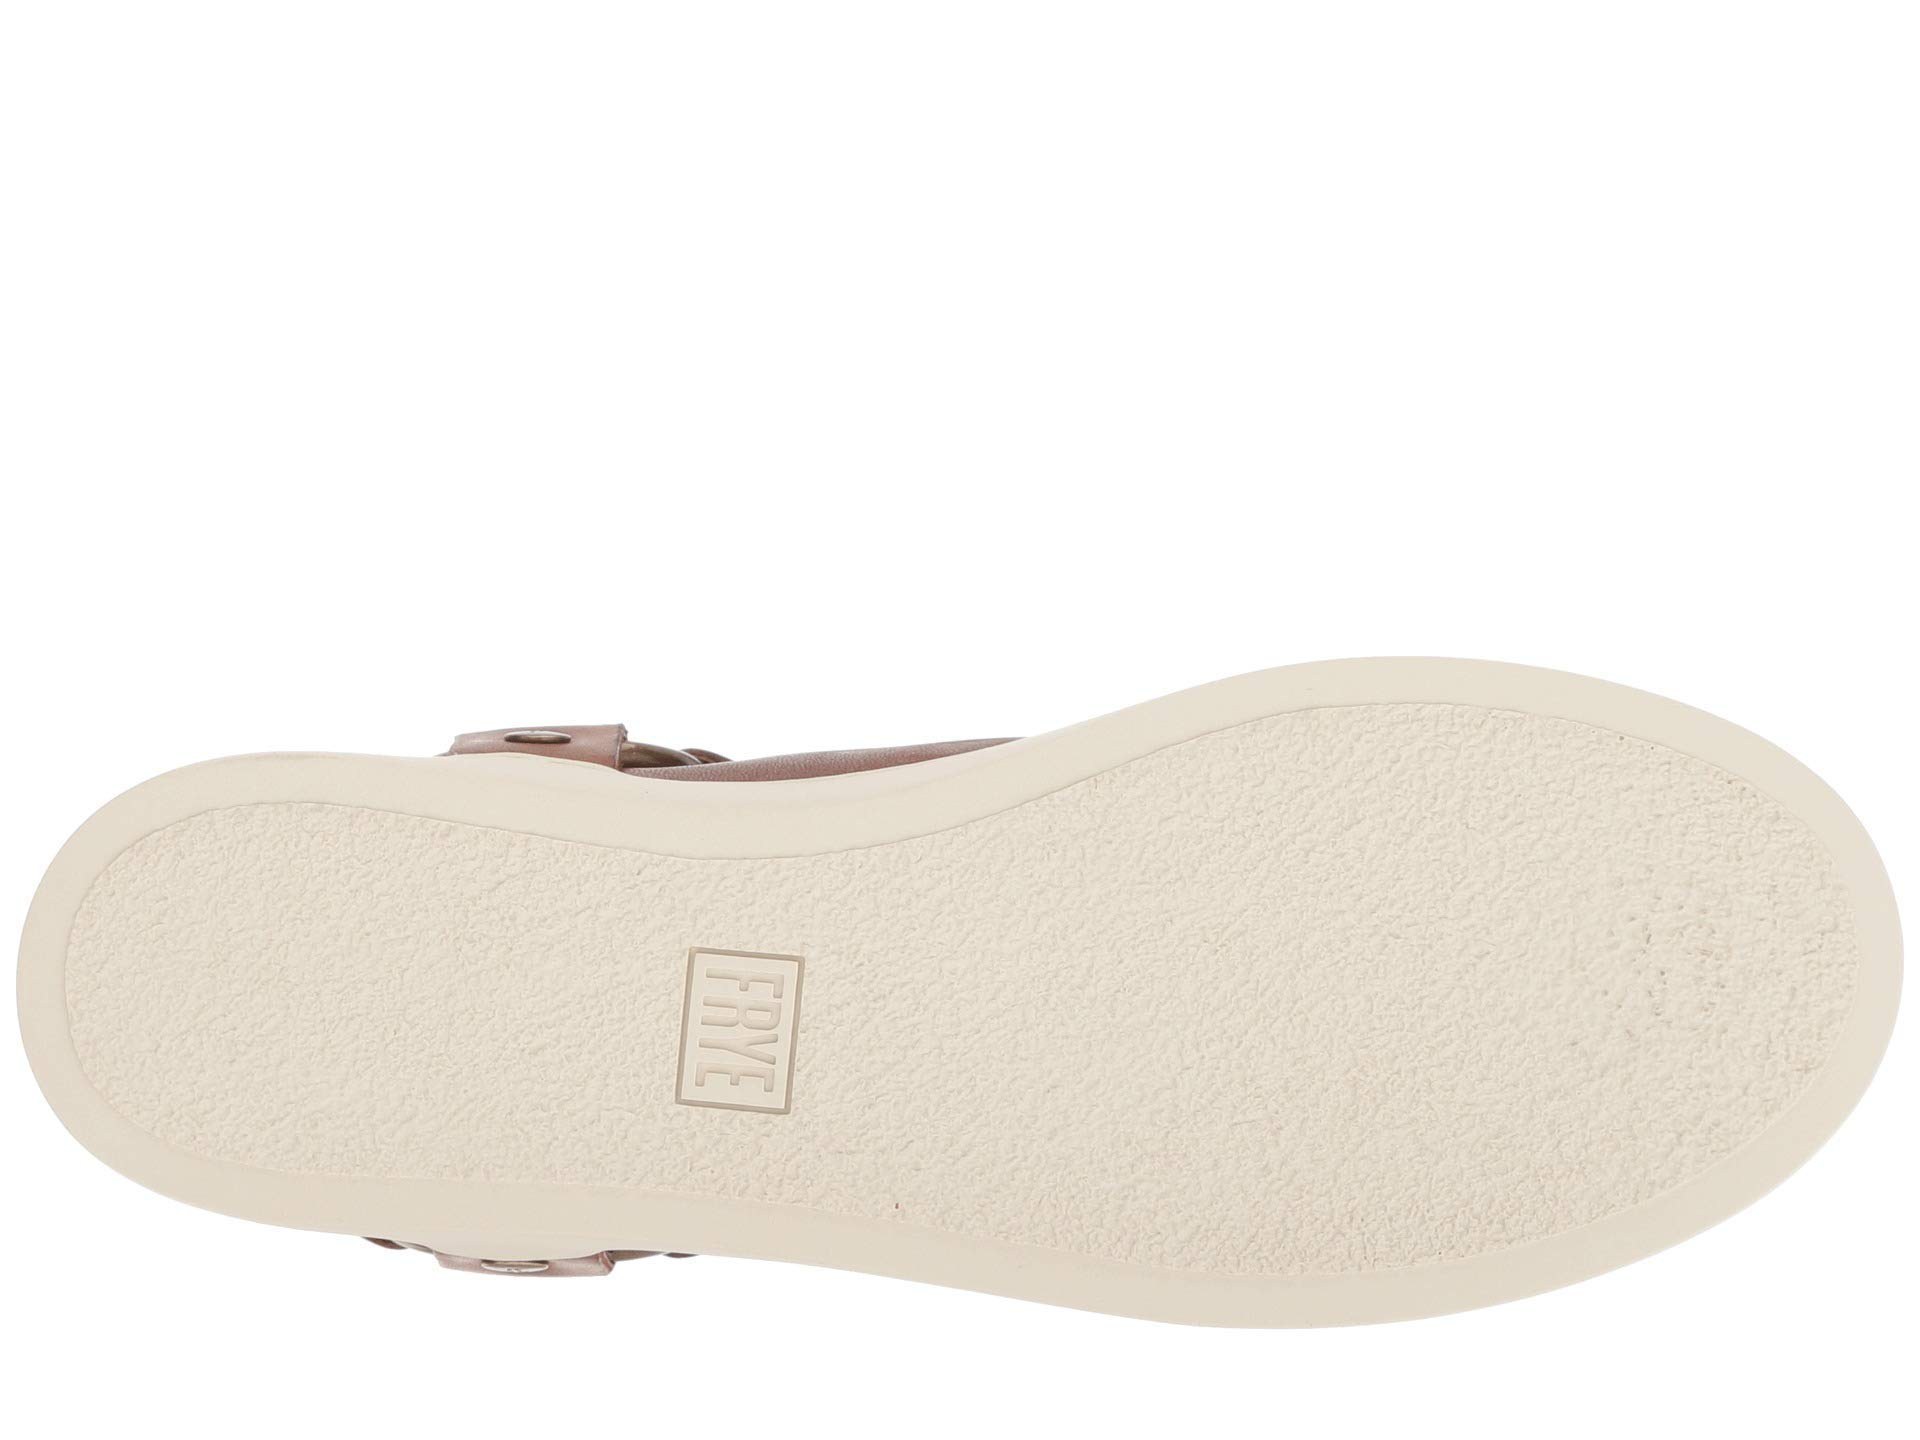quad: (605, 870, 1023, 1198)
text: (605, 870, 1023, 1198)
